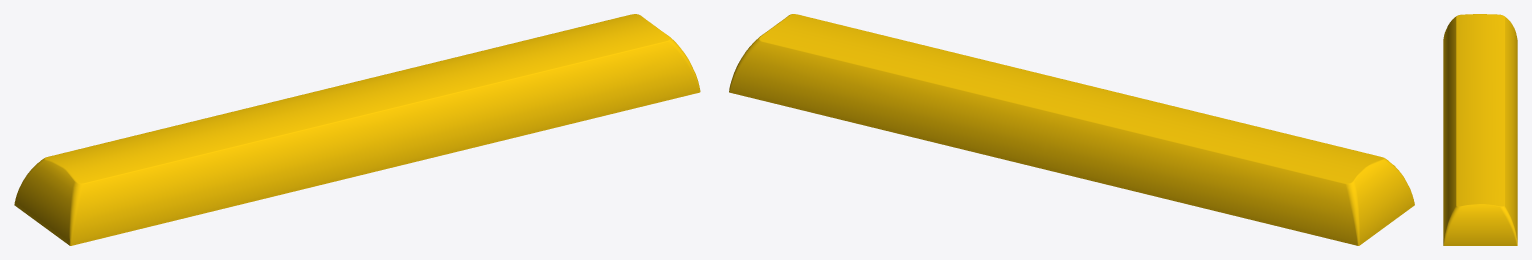
The model's file is 6_25u_convex_compressed.glb.
The picture shows the model from 3 angles, left to right: view 1: azimuth 30°, elevation 25°; view 2: azimuth 150°, elevation 25°; view 3: azimuth 270°, elevation 25°; orthographic projection. The views are drawn at different scales.
Parts seen in each view (by area): view 1: Body13; view 2: Body13; view 3: Body13.
Boxes of the visible parts, box(x1,y1,x2,y2) form: Body13: box(14, 14, 700, 245); Body13: box(729, 14, 1414, 245); Body13: box(1443, 14, 1517, 245).
Size of the model in its own units: 118 by 9.45 by 18.26.
